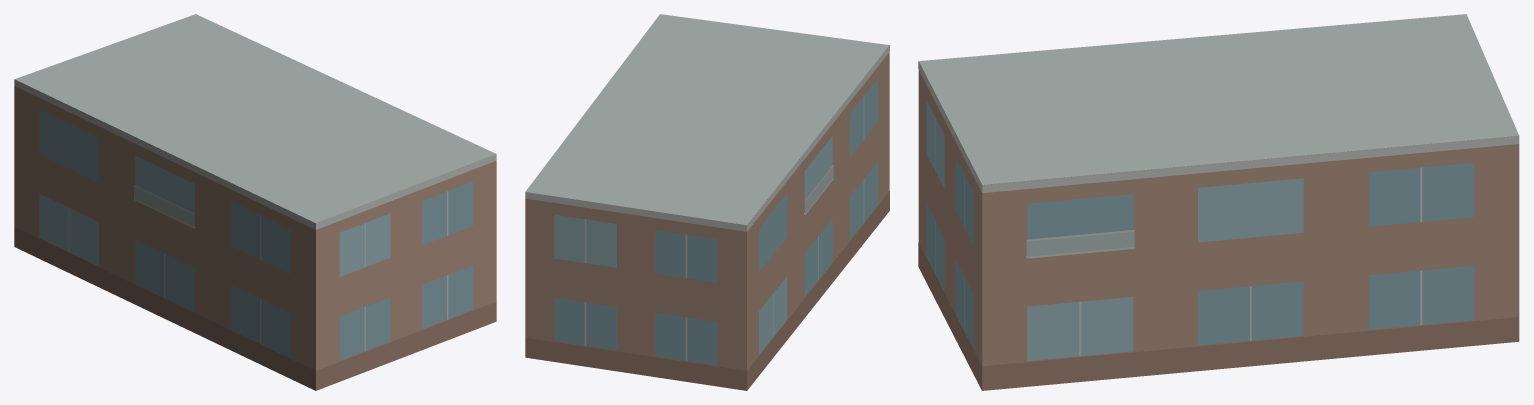
Rendered from survey-upis-32737406.glb.
3 renders of one model, left to right at view 1: azimuth 30°, elevation 25°; view 2: azimuth 150°, elevation 25°; view 3: azimuth 270°, elevation 25°, orthographic. The views are drawn at different scales.
Visible parts, largest first — view 1: survey-upis-32737406.tmp; view 2: survey-upis-32737406.tmp; view 3: survey-upis-32737406.tmp.
Part boxes in pixels (x1,y1,x2,y2): survey-upis-32737406.tmp: (14, 14, 496, 390); survey-upis-32737406.tmp: (525, 14, 889, 390); survey-upis-32737406.tmp: (918, 14, 1519, 390).
Bounding box in the file's own units: 10.87 × 6.1 × 16.14.
